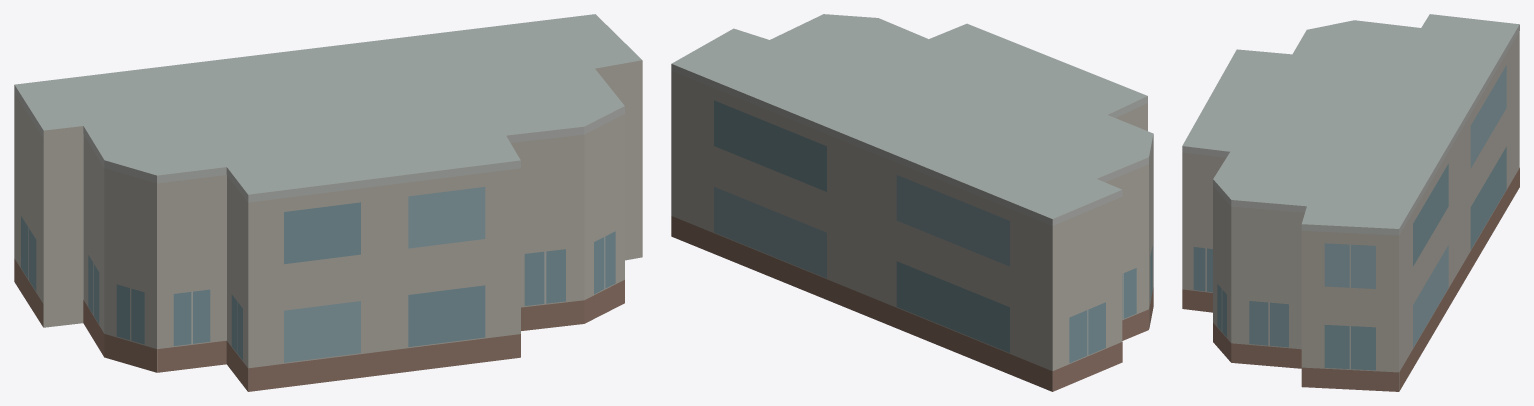
The model's file is survey-upis-32511562.glb.
3 views of the same model, side by side, from view 1: azimuth 30°, elevation 25°; view 2: azimuth 150°, elevation 25°; view 3: azimuth 270°, elevation 25° (orthographic). The views are drawn at different scales.
Parts seen in each view (by area): view 1: survey-upis-32511562.tmp; view 2: survey-upis-32511562.tmp; view 3: survey-upis-32511562.tmp.
Boxes of the visible parts, left/top/right/bottom form: survey-upis-32511562.tmp: left=14, top=14, right=642, bottom=391; survey-upis-32511562.tmp: left=671, top=14, right=1153, bottom=391; survey-upis-32511562.tmp: left=1182, top=14, right=1519, bottom=391.
Size of the model in its own units: 17.28 by 6.1 by 11.47.
